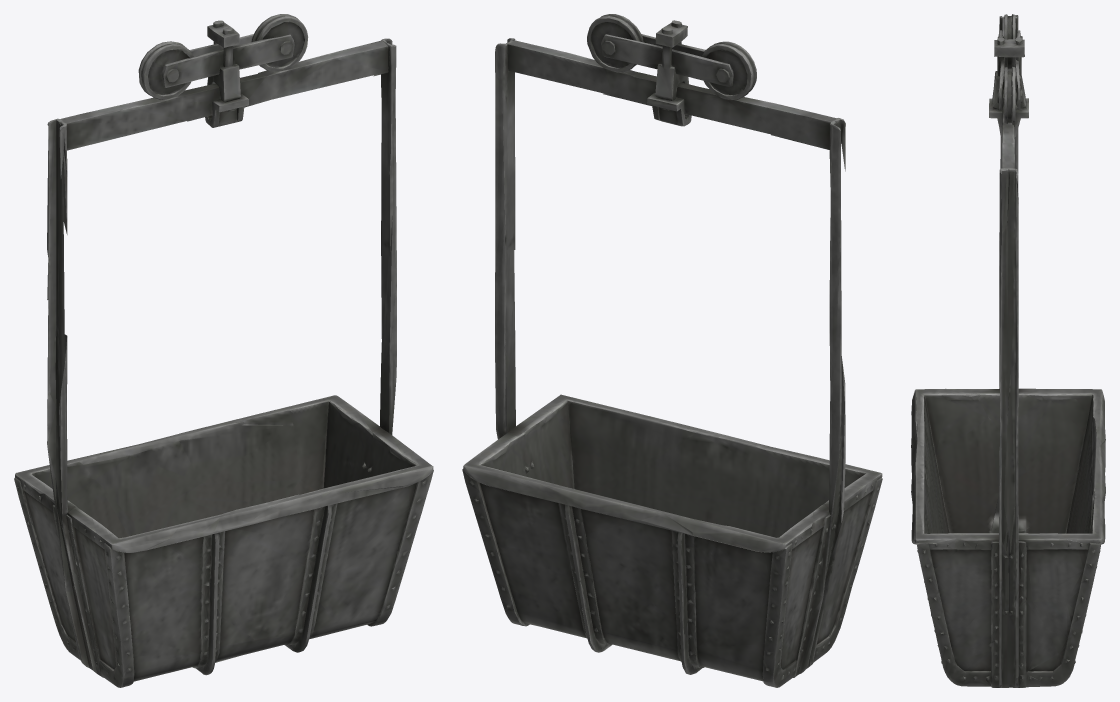
Rendered from ropeway_bucket_v2.glb.
3 renders of one model, left to right at view 1: azimuth 30°, elevation 25°; view 2: azimuth 150°, elevation 25°; view 3: azimuth 270°, elevation 25°, orthographic. The views are drawn at different scales.
Parts seen in each view (by area): view 1: main; view 2: main; view 3: main.
Part boxes in pixels (x1,y1,x2,y2): main: [14, 14, 433, 687]; main: [462, 14, 882, 687]; main: [911, 14, 1105, 687].
Bounding box in the file's own units: 1.83 × 3.14 × 0.9346.
Materials: 1 (1 with a texture image).
